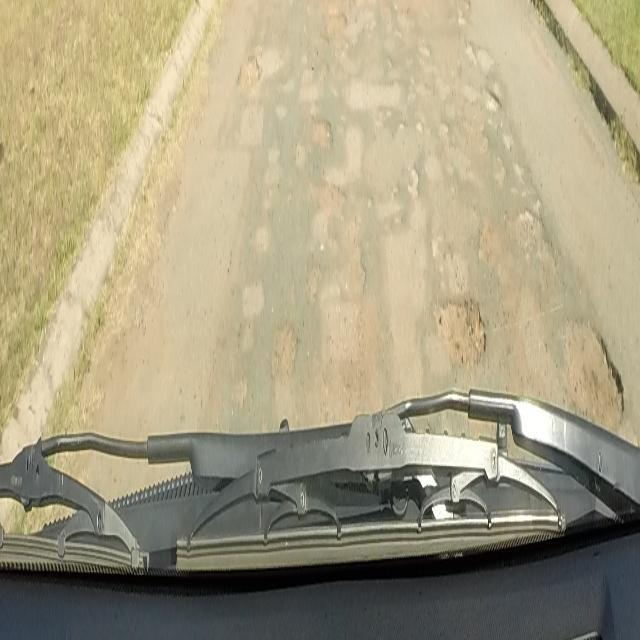pothole: (569, 312, 626, 437), (433, 292, 488, 377), (237, 48, 261, 96), (328, 8, 348, 40)
